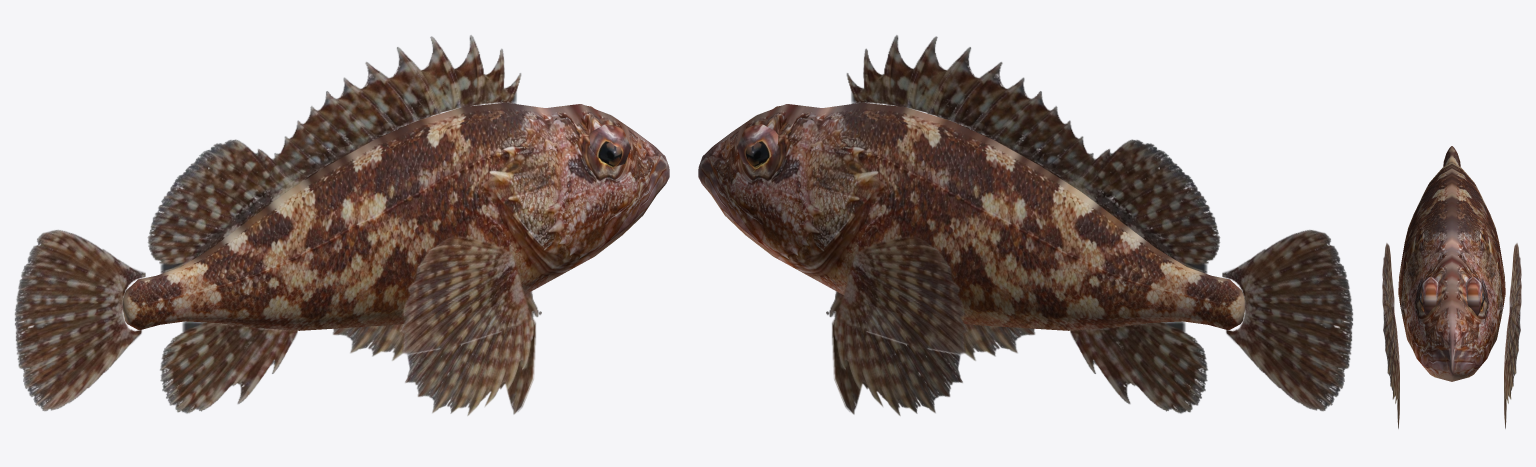
File: kasago_lo.glb
The picture shows the model from 3 angles, left to right: view 1: azimuth 30°, elevation 25°; view 2: azimuth 150°, elevation 25°; view 3: azimuth 270°, elevation 25°; orthographic projection. The views are drawn at different scales.
Visible parts, largest first — view 1: kasago; view 2: kasago; view 3: kasago.
Boxes of the visible parts, left/top/right/bottom form: kasago: left=15, top=35, right=669, bottom=415; kasago: left=698, top=35, right=1352, bottom=415; kasago: left=1382, top=146, right=1521, bottom=428.
Bounding box in the file's own units: 0.2203 × 0.1176 × 0.0517.
1 material, 1 textured.
